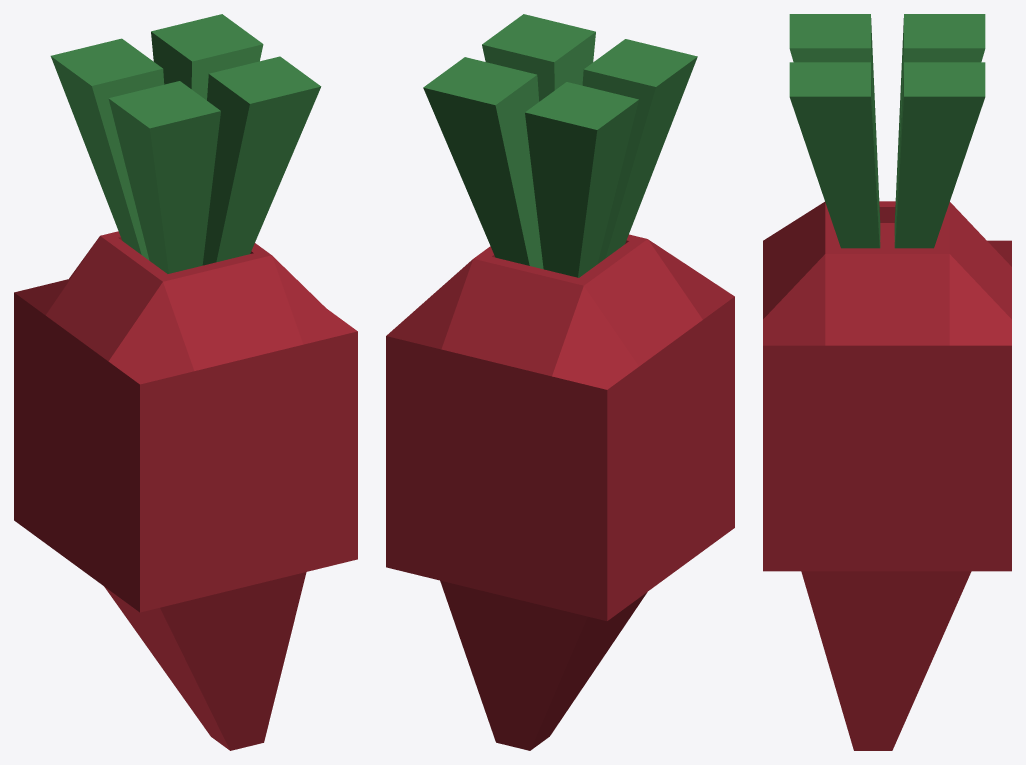
File: beets.fbx
3 views of the same model, side by side, from view 1: azimuth 30°, elevation 25°; view 2: azimuth 150°, elevation 25°; view 3: azimuth 270°, elevation 25° (orthographic). The views are drawn at different scales.
Parts seen in each view (by area): view 1: beets; view 2: beets; view 3: beets.
Boxes of the visible parts, x1,y1,x2,y2 form: beets: [14, 14, 357, 750]; beets: [386, 14, 734, 750]; beets: [763, 14, 1011, 750].
Bounding box in the file's own units: 200 × 591 × 200.
